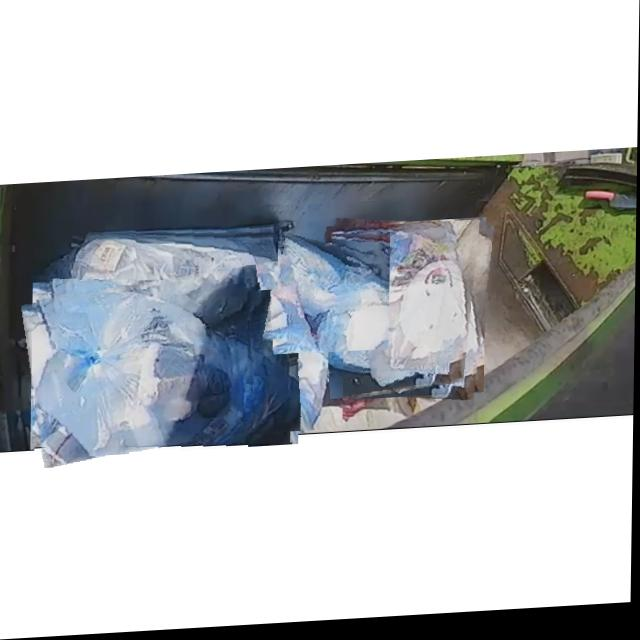other_trashbag: (37, 294, 300, 456), (333, 227, 472, 396), (52, 235, 278, 332), (255, 294, 344, 437), (287, 238, 389, 356), (386, 332, 389, 339)
